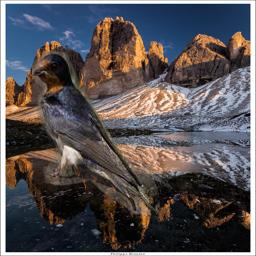Swallow: (32, 51, 162, 219)
